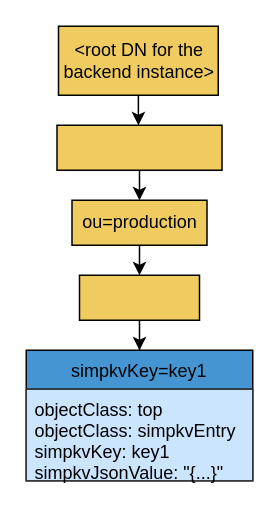
This 279x512 diagram has some shape labels left out. Each missing label, with the box of its shape:
ou=app1: (78, 274, 200, 320)
ou=environments: (56, 124, 222, 170)
